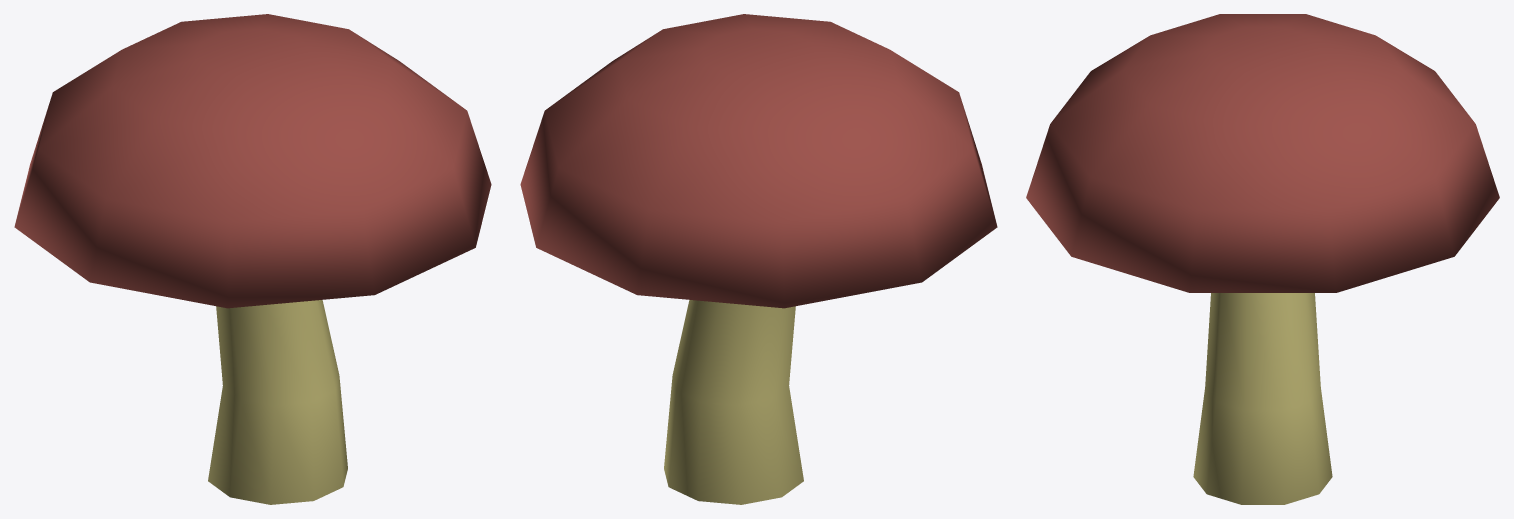
Rendered from Mushroom_Brown_2.fbx.
3 views of the same model, side by side, from view 1: azimuth 30°, elevation 25°; view 2: azimuth 150°, elevation 25°; view 3: azimuth 270°, elevation 25° (orthographic). The views are drawn at different scales.
Visible parts, largest first — view 1: Cylinder.300, Cylinder.301; view 2: Cylinder.300, Cylinder.301; view 3: Cylinder.300, Cylinder.301.
Boxes of the visible parts, x1=… form: Cylinder.300: x1=14, y1=14, x2=491, y2=308; Cylinder.301: x1=208, y1=300, x2=347, y2=504; Cylinder.300: x1=520, y1=14, x2=997, y2=308; Cylinder.301: x1=664, y1=300, x2=803, y2=504; Cylinder.300: x1=1026, y1=14, x2=1499, y2=292; Cylinder.301: x1=1193, y1=293, x2=1332, y2=504.
Bounding box in the file's own units: 72.61 × 73.76 × 76.34.
